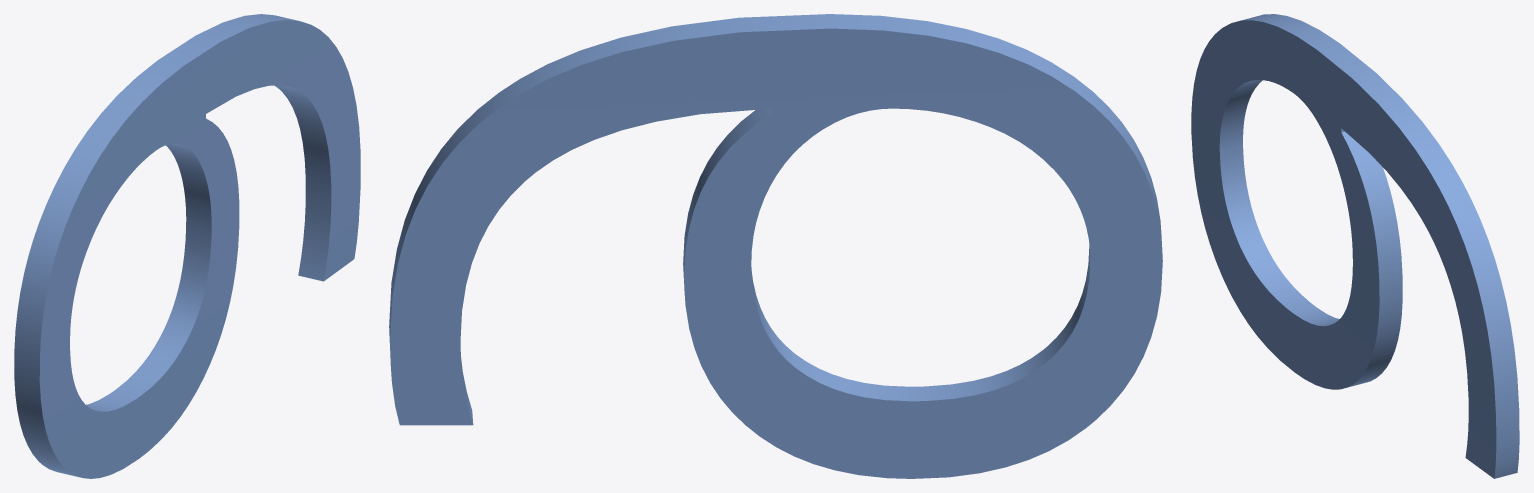
File: New_Number_6.gltf
3 renders of one model, left to right at view 1: azimuth 30°, elevation 25°; view 2: azimuth 150°, elevation 25°; view 3: azimuth 270°, elevation 25°, orthographic. The views are drawn at different scales.
Parts seen in each view (by area): view 1: Part 15; view 2: Part 15; view 3: Part 15.
Boxes of the visible parts, bbox=[...] form: Part 15: bbox=[14, 14, 360, 478]; Part 15: bbox=[389, 14, 1162, 478]; Part 15: bbox=[1191, 14, 1519, 478].
Bounding box in the file's own units: 0.00502 × 0.00358 × 0.00306.
